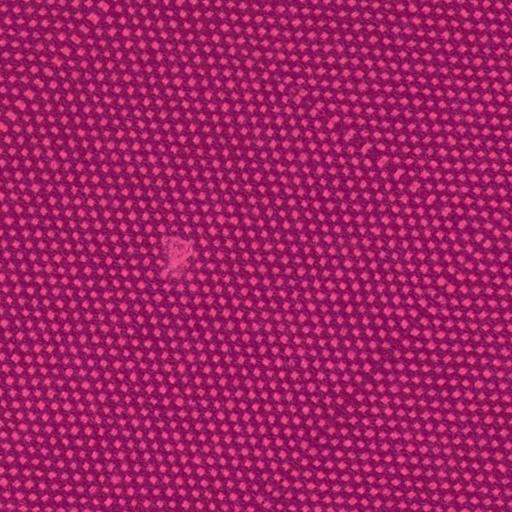knot: (151, 230, 207, 292)
